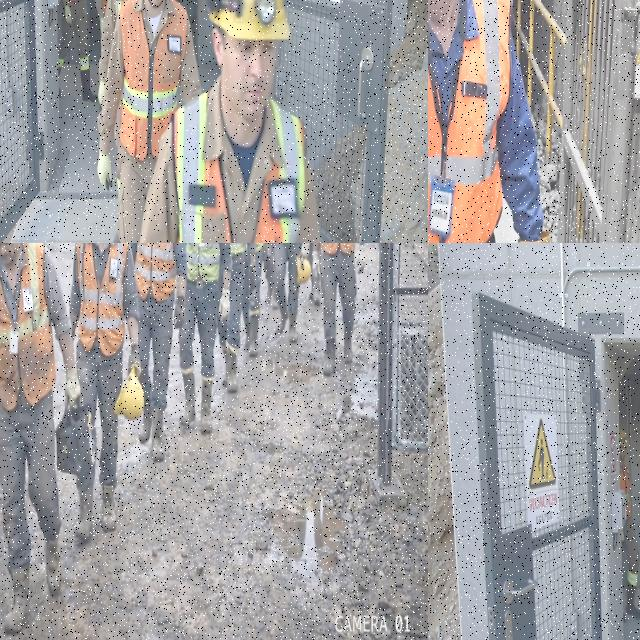Vest: (446, 0, 510, 242), (120, 0, 188, 160), (0, 243, 55, 411), (174, 93, 231, 242), (76, 243, 128, 356), (135, 243, 175, 301), (186, 243, 219, 283), (322, 243, 354, 254), (114, 0, 126, 17), (230, 243, 246, 255), (102, 0, 108, 13), (256, 243, 264, 252), (67, 0, 80, 3)
Worker: (140, 0, 320, 242), (0, 243, 80, 633), (428, 0, 549, 242), (98, 0, 200, 242), (69, 243, 140, 532), (130, 243, 186, 461), (179, 243, 231, 434), (312, 243, 365, 376), (219, 243, 255, 393), (59, 0, 97, 101), (619, 430, 639, 620), (274, 243, 308, 343), (242, 243, 272, 356), (98, 0, 127, 105), (263, 245, 274, 305), (95, 0, 108, 33), (309, 272, 320, 306)
helmet: (207, 0, 290, 40), (114, 367, 143, 420), (297, 254, 311, 284), (619, 429, 628, 446)
